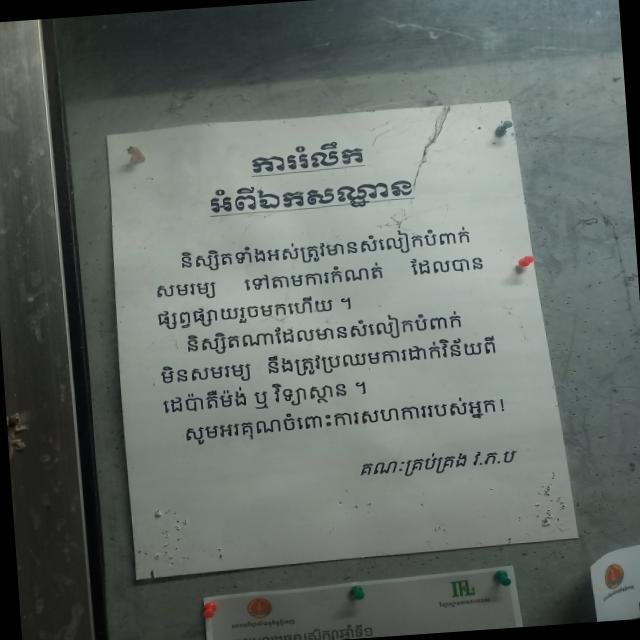1: (354, 444, 524, 481)
2: (157, 374, 372, 421)
Yolov11_80vkh: (174, 388, 513, 449), (177, 222, 485, 273), (183, 307, 465, 358), (266, 329, 500, 380), (199, 169, 421, 221), (154, 292, 357, 331), (247, 136, 366, 180), (242, 259, 387, 295), (155, 359, 253, 388), (408, 250, 487, 279), (154, 279, 219, 301)
